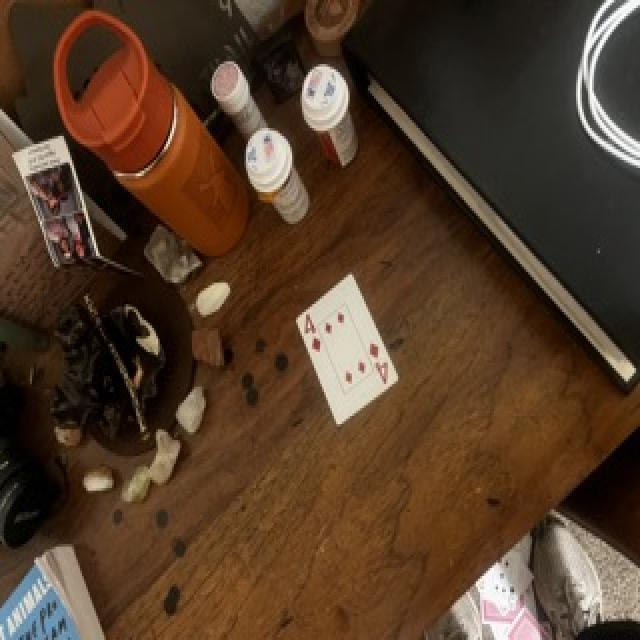4 of diamonds: (296, 275, 398, 425)
